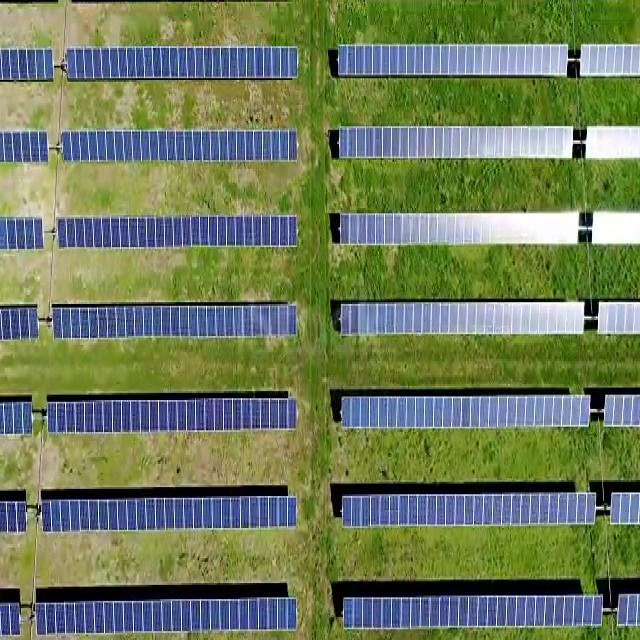Solar-panels: (344, 594, 604, 632), (55, 299, 297, 338), (45, 498, 297, 535), (341, 300, 586, 336), (342, 395, 590, 430), (37, 601, 297, 634), (340, 125, 574, 161), (68, 50, 300, 85), (50, 400, 296, 433), (345, 495, 596, 526), (58, 216, 299, 248), (338, 46, 570, 79), (343, 215, 581, 246), (64, 135, 302, 165)
